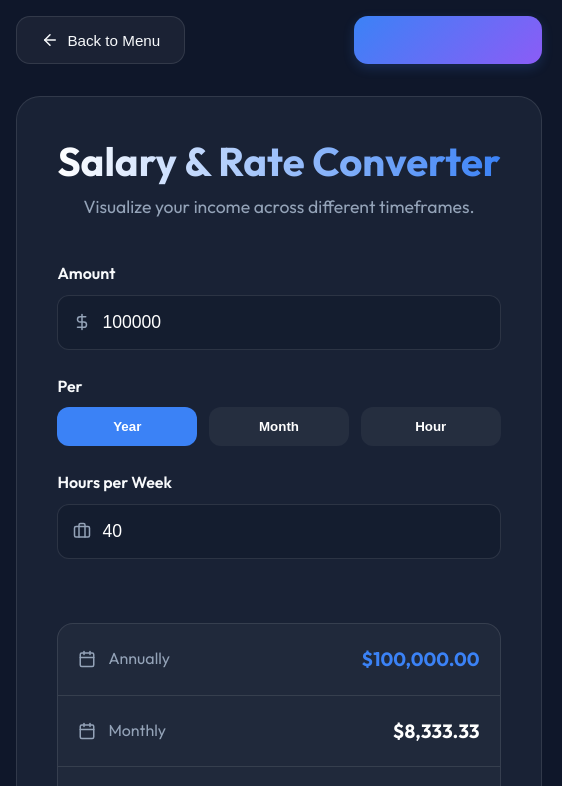
Scenario: SalaryCalculator › should update calculations when amount changes
Replace the text in the number field labelled "Amount" with "120000" at (279, 322), box [57, 295, 501, 350]
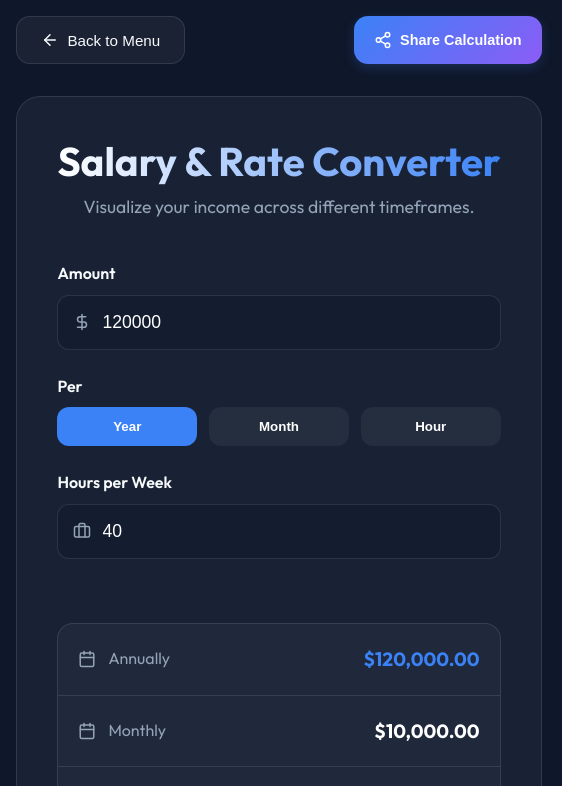
Expected: the text "$120,000.00" is shown, [364, 644, 480, 675]
